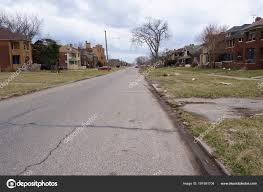strada: (1, 67, 205, 176)
